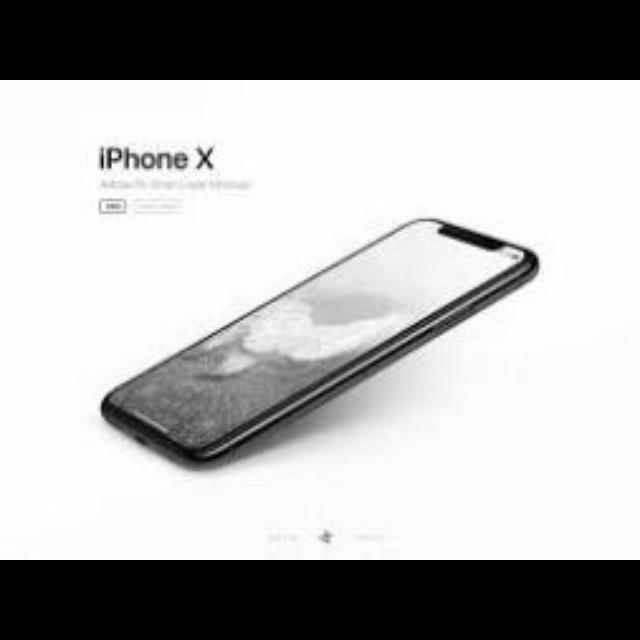fake: (82, 186, 540, 464)
